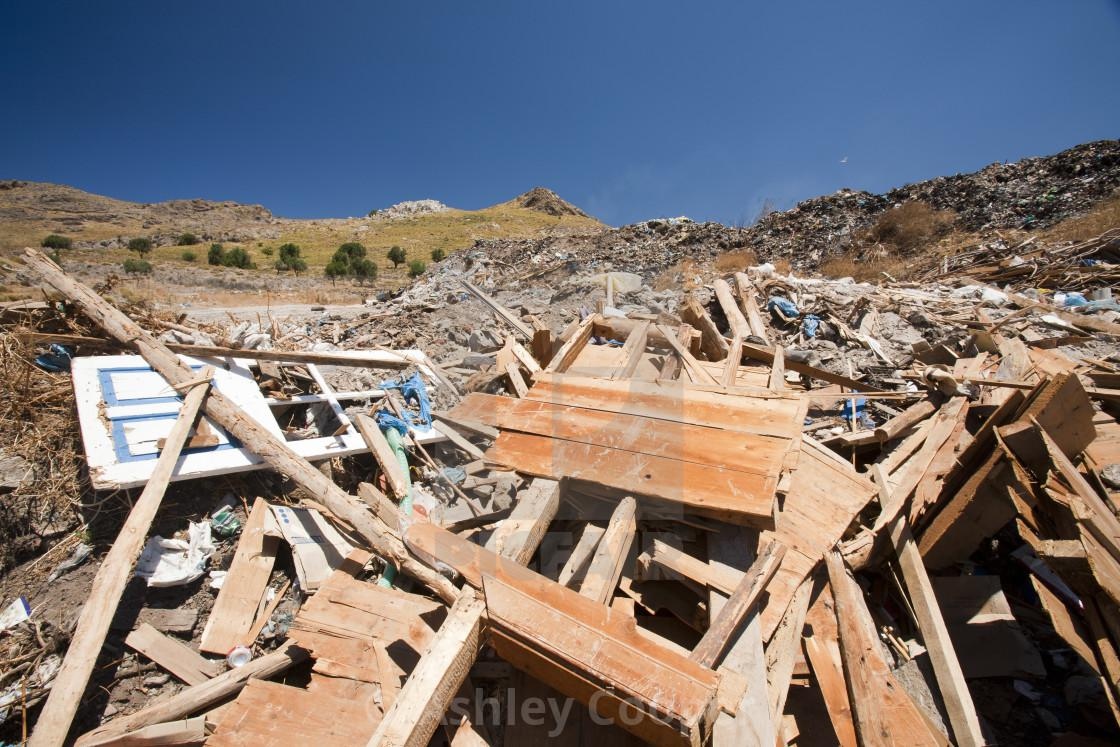wood: (481, 367, 814, 521), (57, 350, 461, 468), (204, 491, 269, 664)
